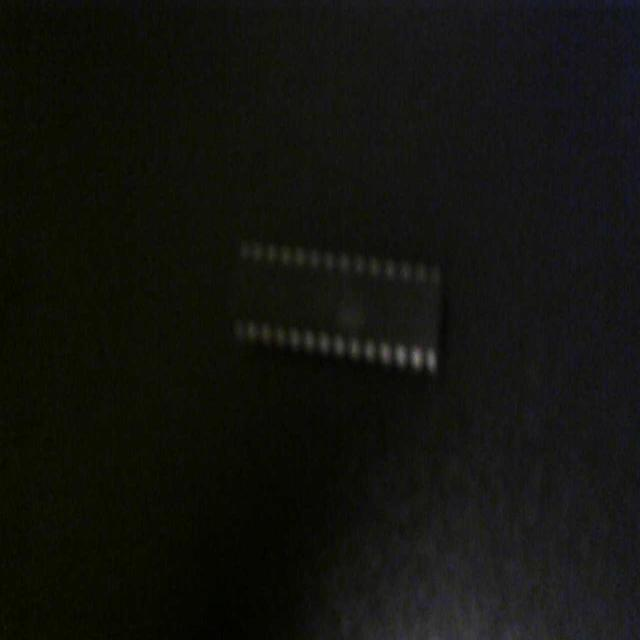atmega: (225, 230, 448, 384)
